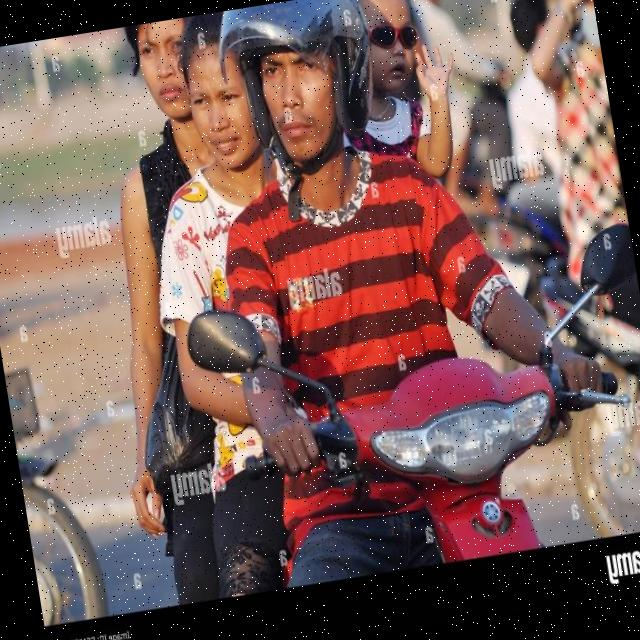Triple riding: (102, 0, 431, 419)
